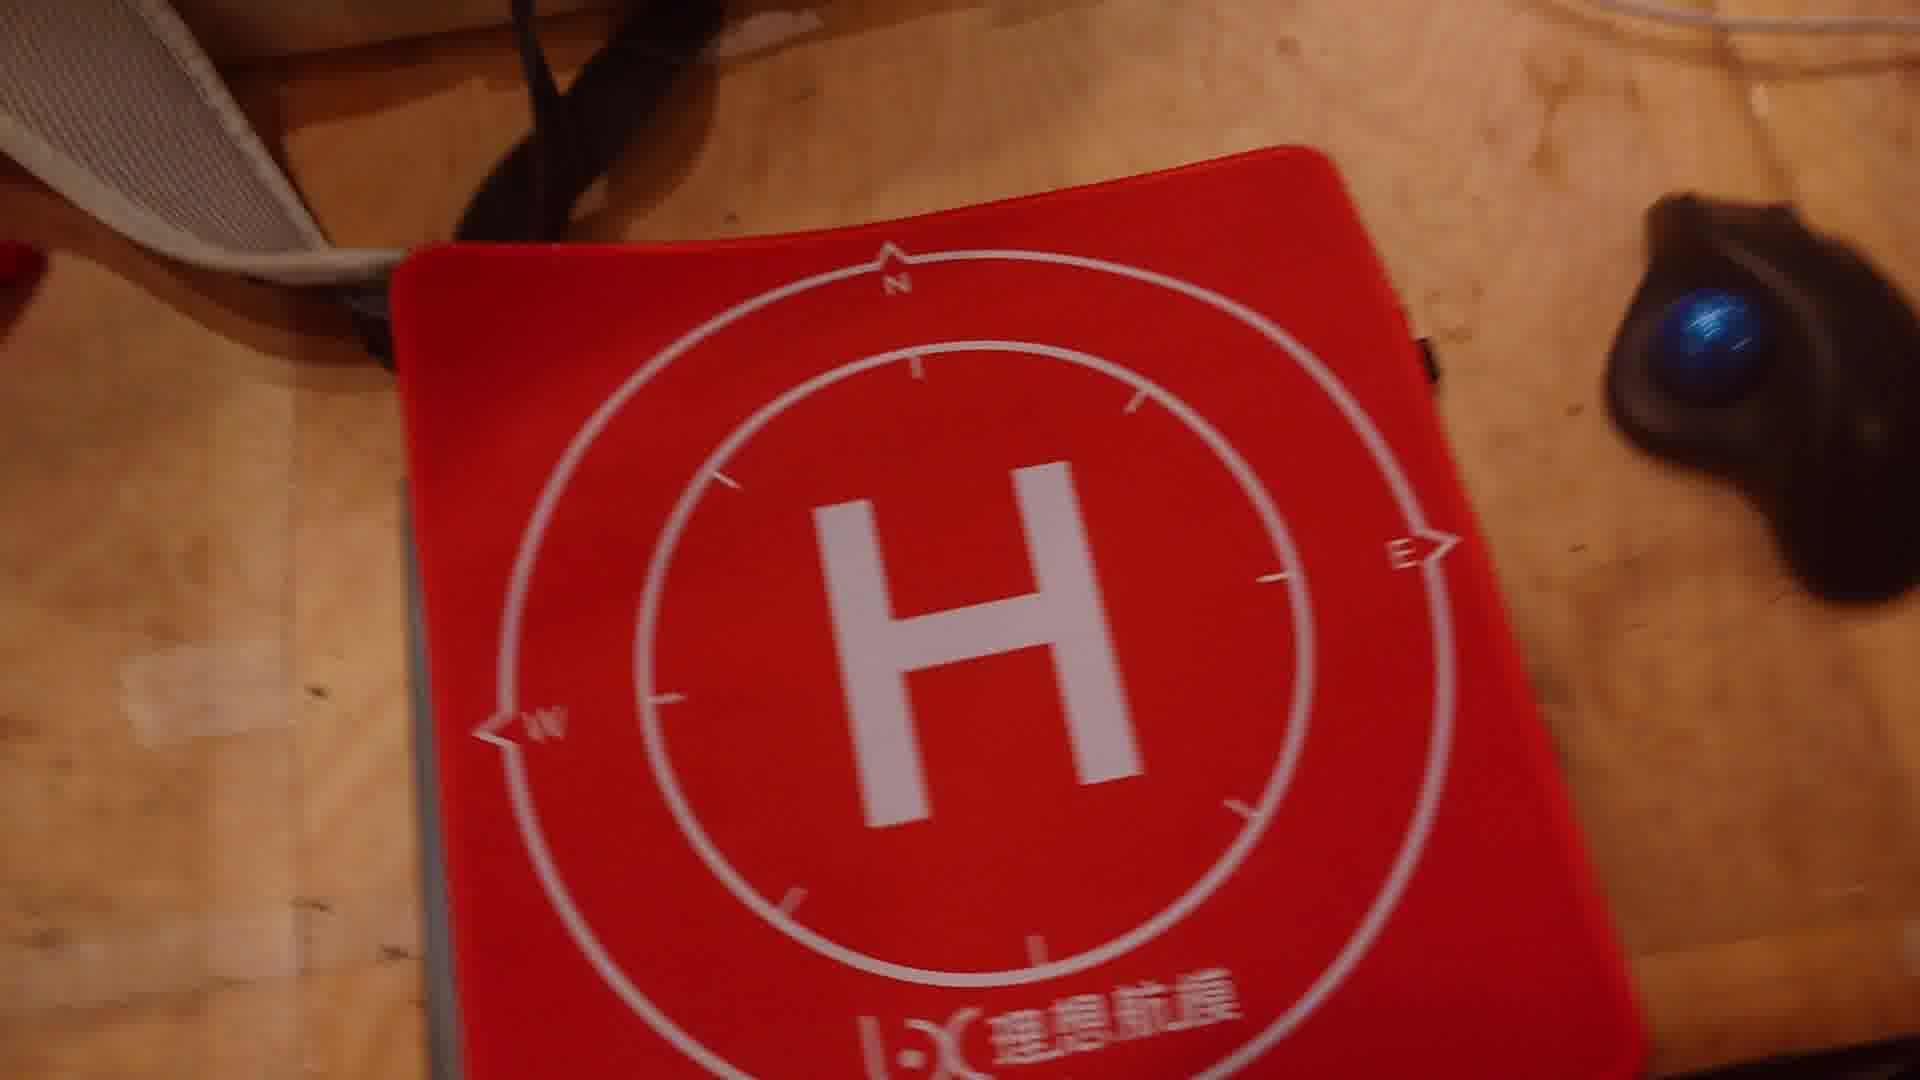H: (811, 462, 1145, 833)
